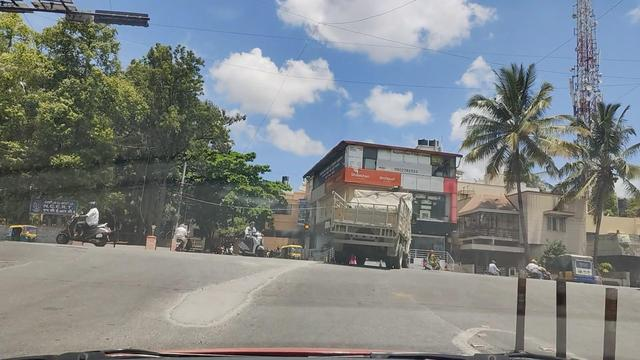HMV: (330, 188, 411, 260)
LMV: (51, 201, 118, 247)
RoadDamages: (160, 252, 322, 331), (437, 306, 515, 350)
